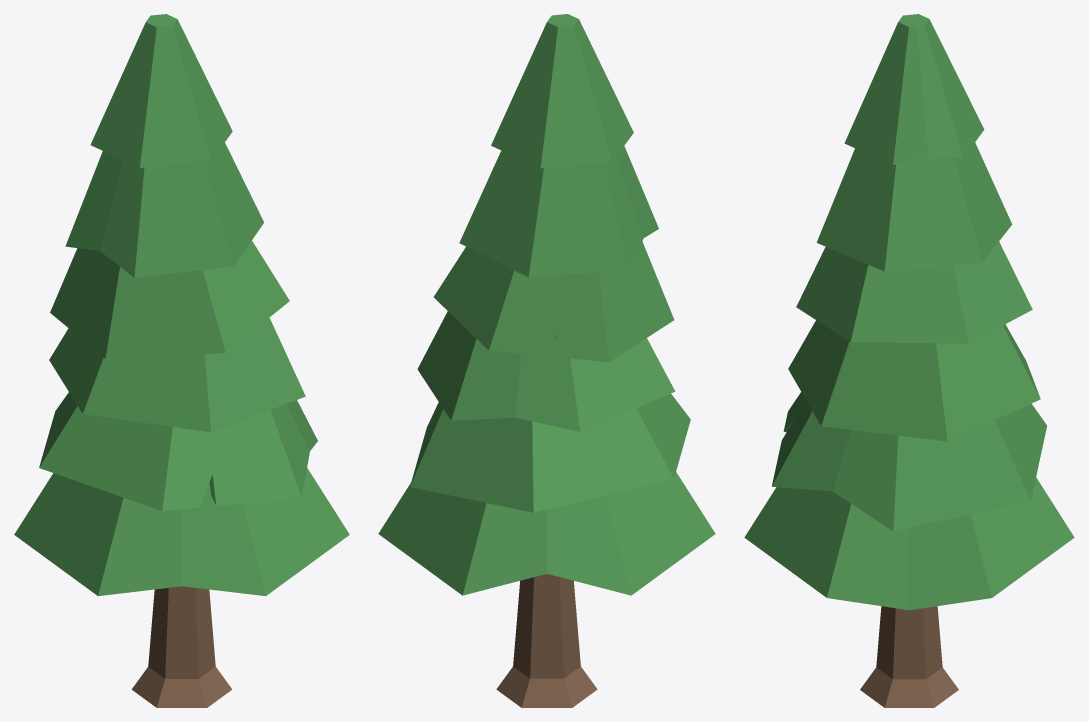
Rendered from tree 2.fbx.
3 views of the same model, side by side, from view 1: azimuth 30°, elevation 25°; view 2: azimuth 150°, elevation 25°; view 3: azimuth 270°, elevation 25° (orthographic). The views are drawn at different scales.
Parts seen in each view (by area): view 1: Tree 2; view 2: Tree 2; view 3: Tree 2.
Part boxes in pixels (left/top/right/bottom): Tree 2: left=14, top=14, right=349, bottom=707; Tree 2: left=378, top=14, right=715, bottom=707; Tree 2: left=744, top=14, right=1074, bottom=707.
Bounding box in the file's own units: 214 × 524 × 237.
Materials: 1 (1 with a texture image).
